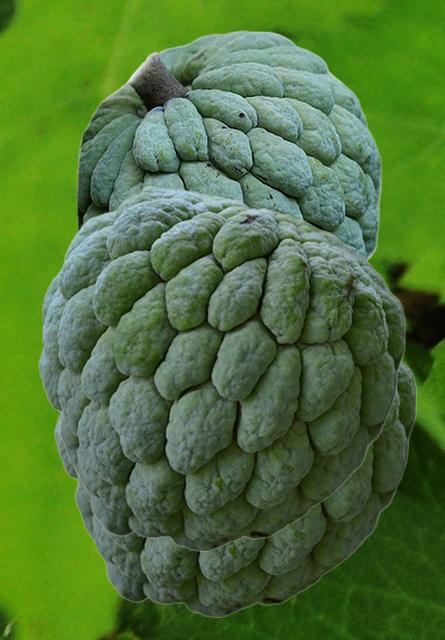atis: (38, 186, 405, 550), (54, 358, 416, 616), (76, 30, 381, 261)
